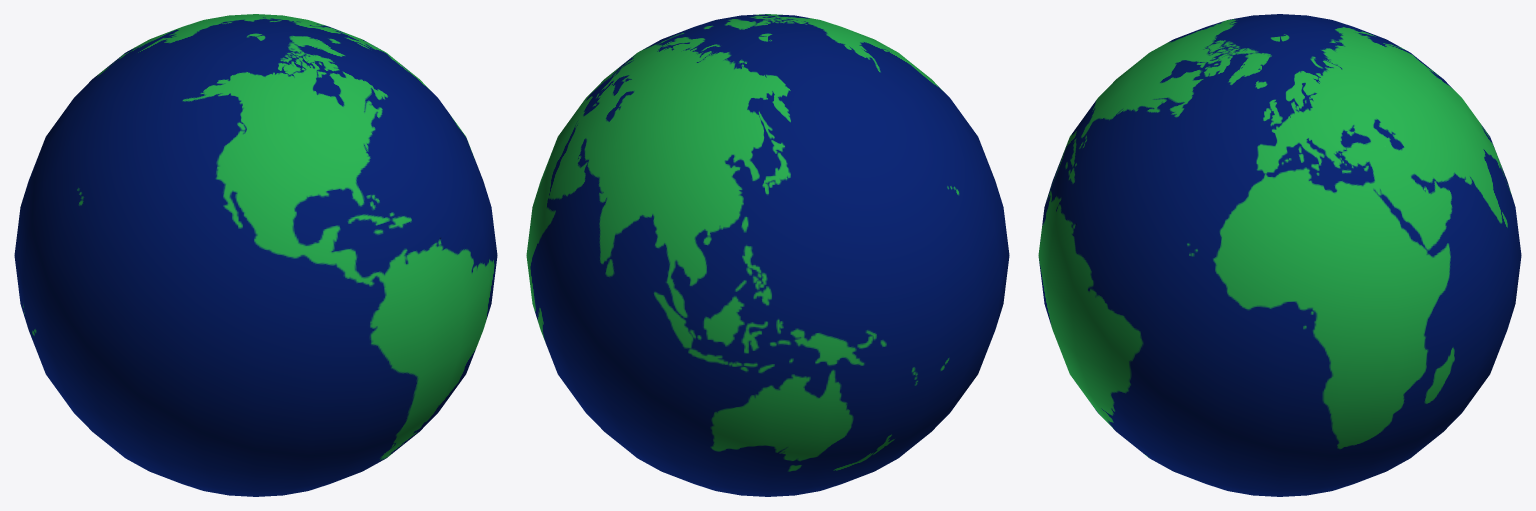
File: earth.fbx
3 renders of one model, left to right at view 1: azimuth 30°, elevation 25°; view 2: azimuth 150°, elevation 25°; view 3: azimuth 270°, elevation 25°, orthographic.
Visible parts, largest first — view 1: Earth; view 2: Earth; view 3: Earth.
Boxes of the visible parts, x1,y1,x2,y2 form: Earth: (14,14,497,496); Earth: (526,14,1009,496); Earth: (1038,14,1521,496).
Bounding box in the file's own units: 200 × 200 × 200.
Materials: 1 (1 with a texture image).
